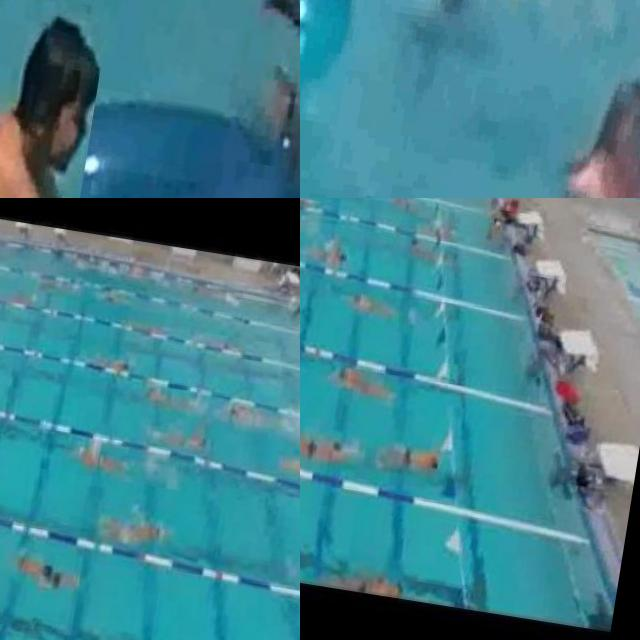drowning: (377, 0, 627, 99), (223, 0, 300, 198)
swimming: (0, 0, 111, 198), (2, 544, 80, 596), (321, 554, 403, 598), (92, 509, 165, 550), (329, 360, 393, 402), (379, 433, 440, 474), (300, 419, 350, 464), (68, 439, 128, 476), (125, 306, 171, 344), (221, 392, 267, 428), (302, 236, 348, 271), (160, 424, 206, 458), (144, 382, 190, 416), (347, 284, 393, 318), (403, 232, 448, 266), (94, 347, 140, 377), (385, 198, 431, 222), (275, 443, 300, 480), (300, 198, 326, 213)
